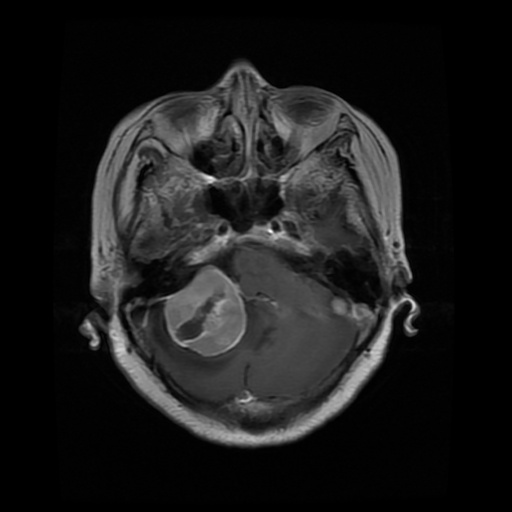meningioma: (164, 263, 246, 356)
